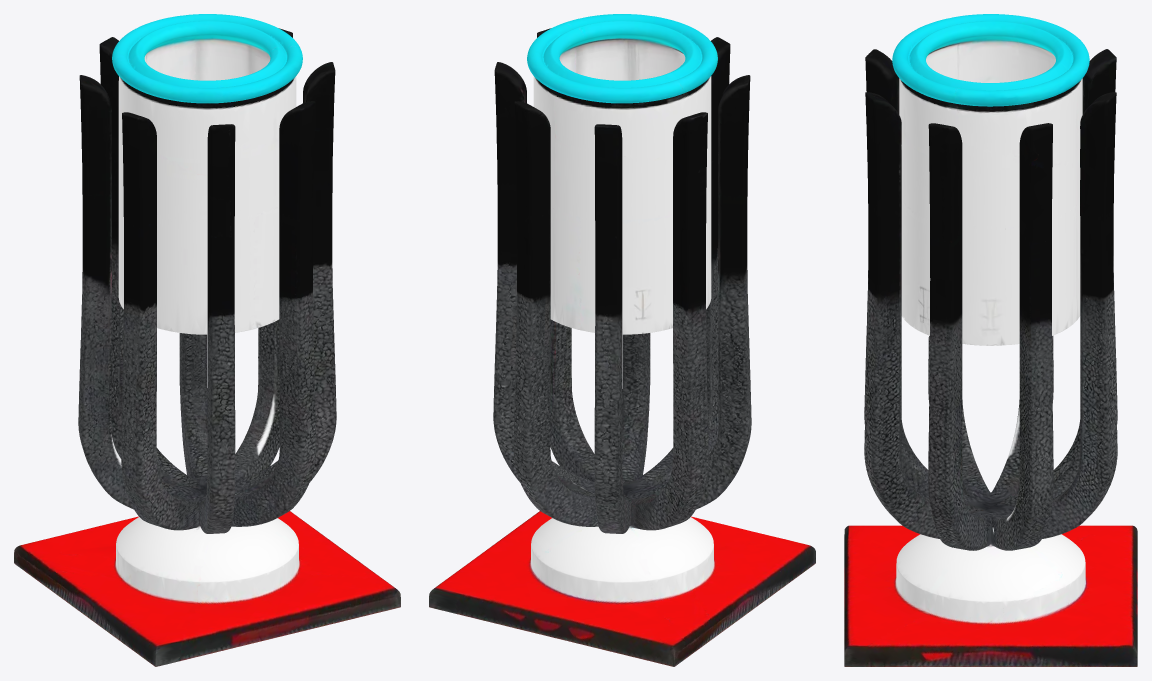
Rendered from urc.glb.
The picture shows the model from 3 angles, left to right: view 1: azimuth 30°, elevation 25°; view 2: azimuth 150°, elevation 25°; view 3: azimuth 270°, elevation 25°; orthographic projection. The views are drawn at different scales.
Visible parts, largest first — view 1: mesh_node; view 2: mesh_node; view 3: mesh_node.
Part boxes in pixels (bbox=[...]): mesh_node: bbox=[14, 14, 400, 666]; mesh_node: bbox=[429, 14, 815, 666]; mesh_node: bbox=[844, 14, 1137, 666].
Bounding box in the file's own units: 0.9129 × 1.9 × 0.913.
1 material, 1 textured.
